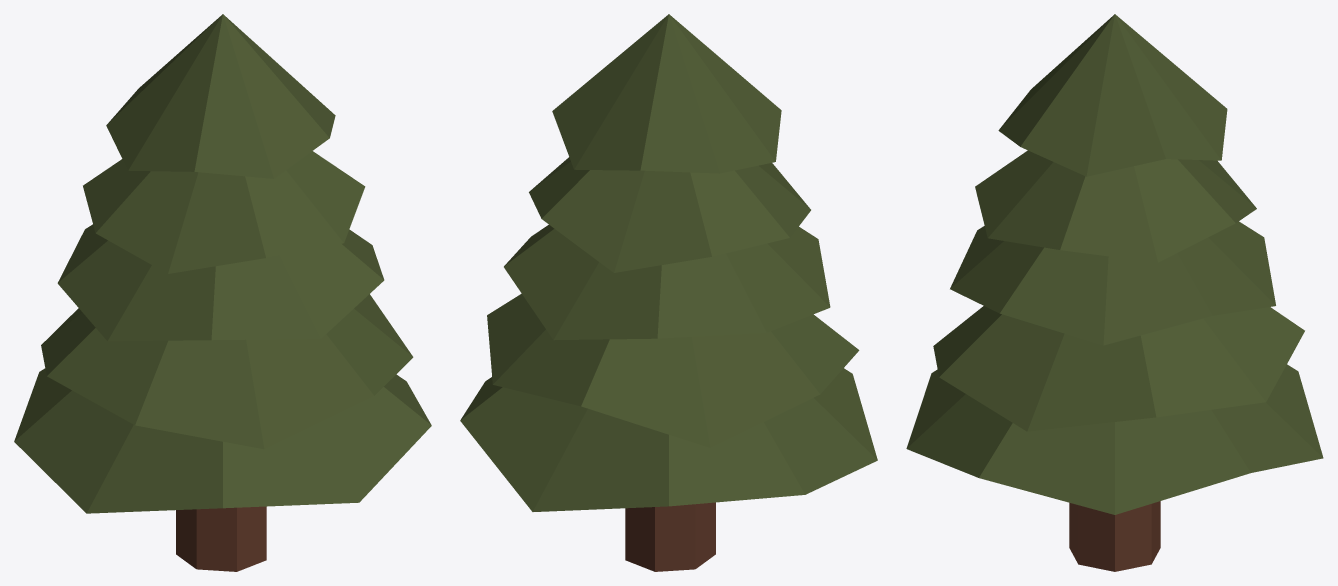
The model's file is tree_01.fbx.
3 renders of one model, left to right at view 1: azimuth 30°, elevation 25°; view 2: azimuth 150°, elevation 25°; view 3: azimuth 270°, elevation 25°, orthographic.
Parts seen in each view (by area): view 1: tree_4; view 2: tree_4; view 3: tree_4.
Part boxes in pixels (left/top/right/bottom): tree_4: left=14, top=14, right=431, bottom=571; tree_4: left=460, top=14, right=877, bottom=571; tree_4: left=906, top=14, right=1323, bottom=571.
Bounding box in the file's own units: 5.25 × 7.58 × 5.33.
